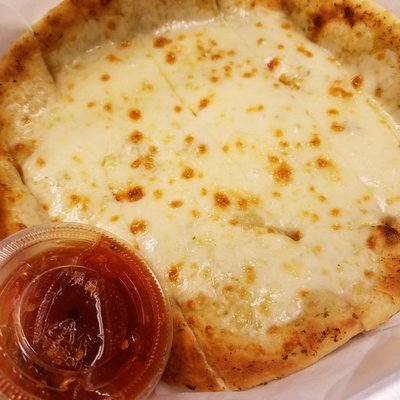pizza: (0, 222, 174, 400)
